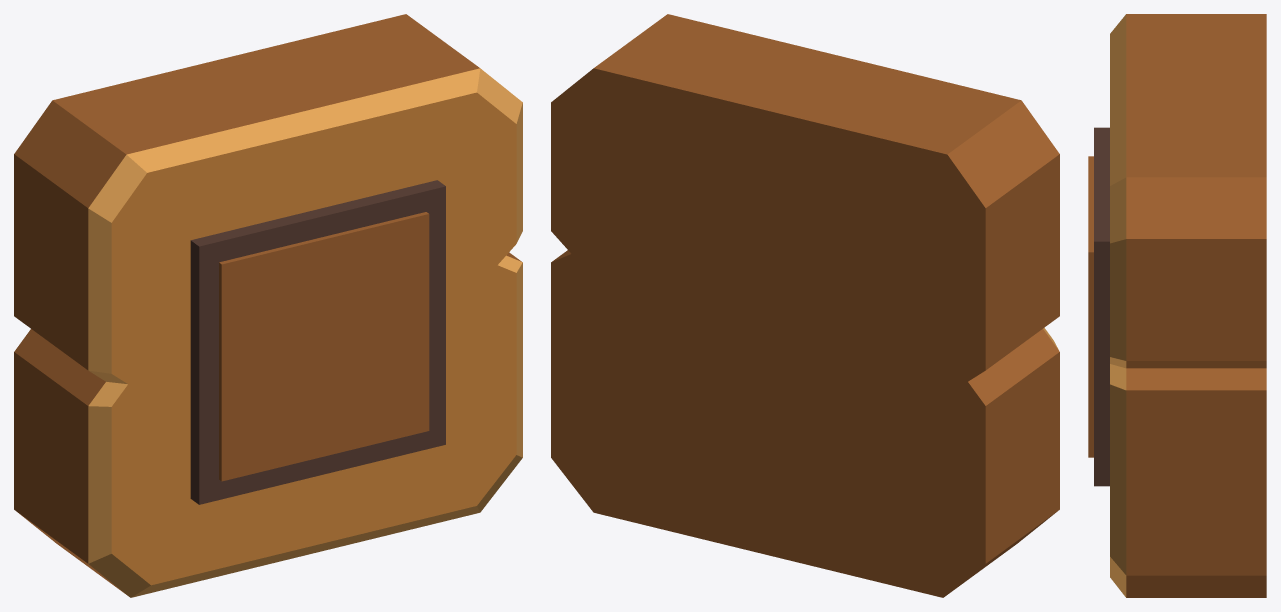
Rendered from CheckOff.fbx.
3 renders of one model, left to right at view 1: azimuth 30°, elevation 25°; view 2: azimuth 150°, elevation 25°; view 3: azimuth 270°, elevation 25°, orthographic. The views are drawn at different scales.
Visible parts, largest first — view 1: Stone, Inset, Recess; view 2: Stone; view 3: Stone, Recess, Inset.
Part boxes in pixels (x1,y1,x2,y2): Stone: (14,14,522,597); Inset: (219,212,429,481); Recess: (190,180,445,504); Stone: (551,14,1059,597); Stone: (1110,14,1266,597); Recess: (1094,127,1109,486); Inset: (1088,156,1093,457).
Size of the model in its own units: 0.088 by 0.086 by 0.033.
